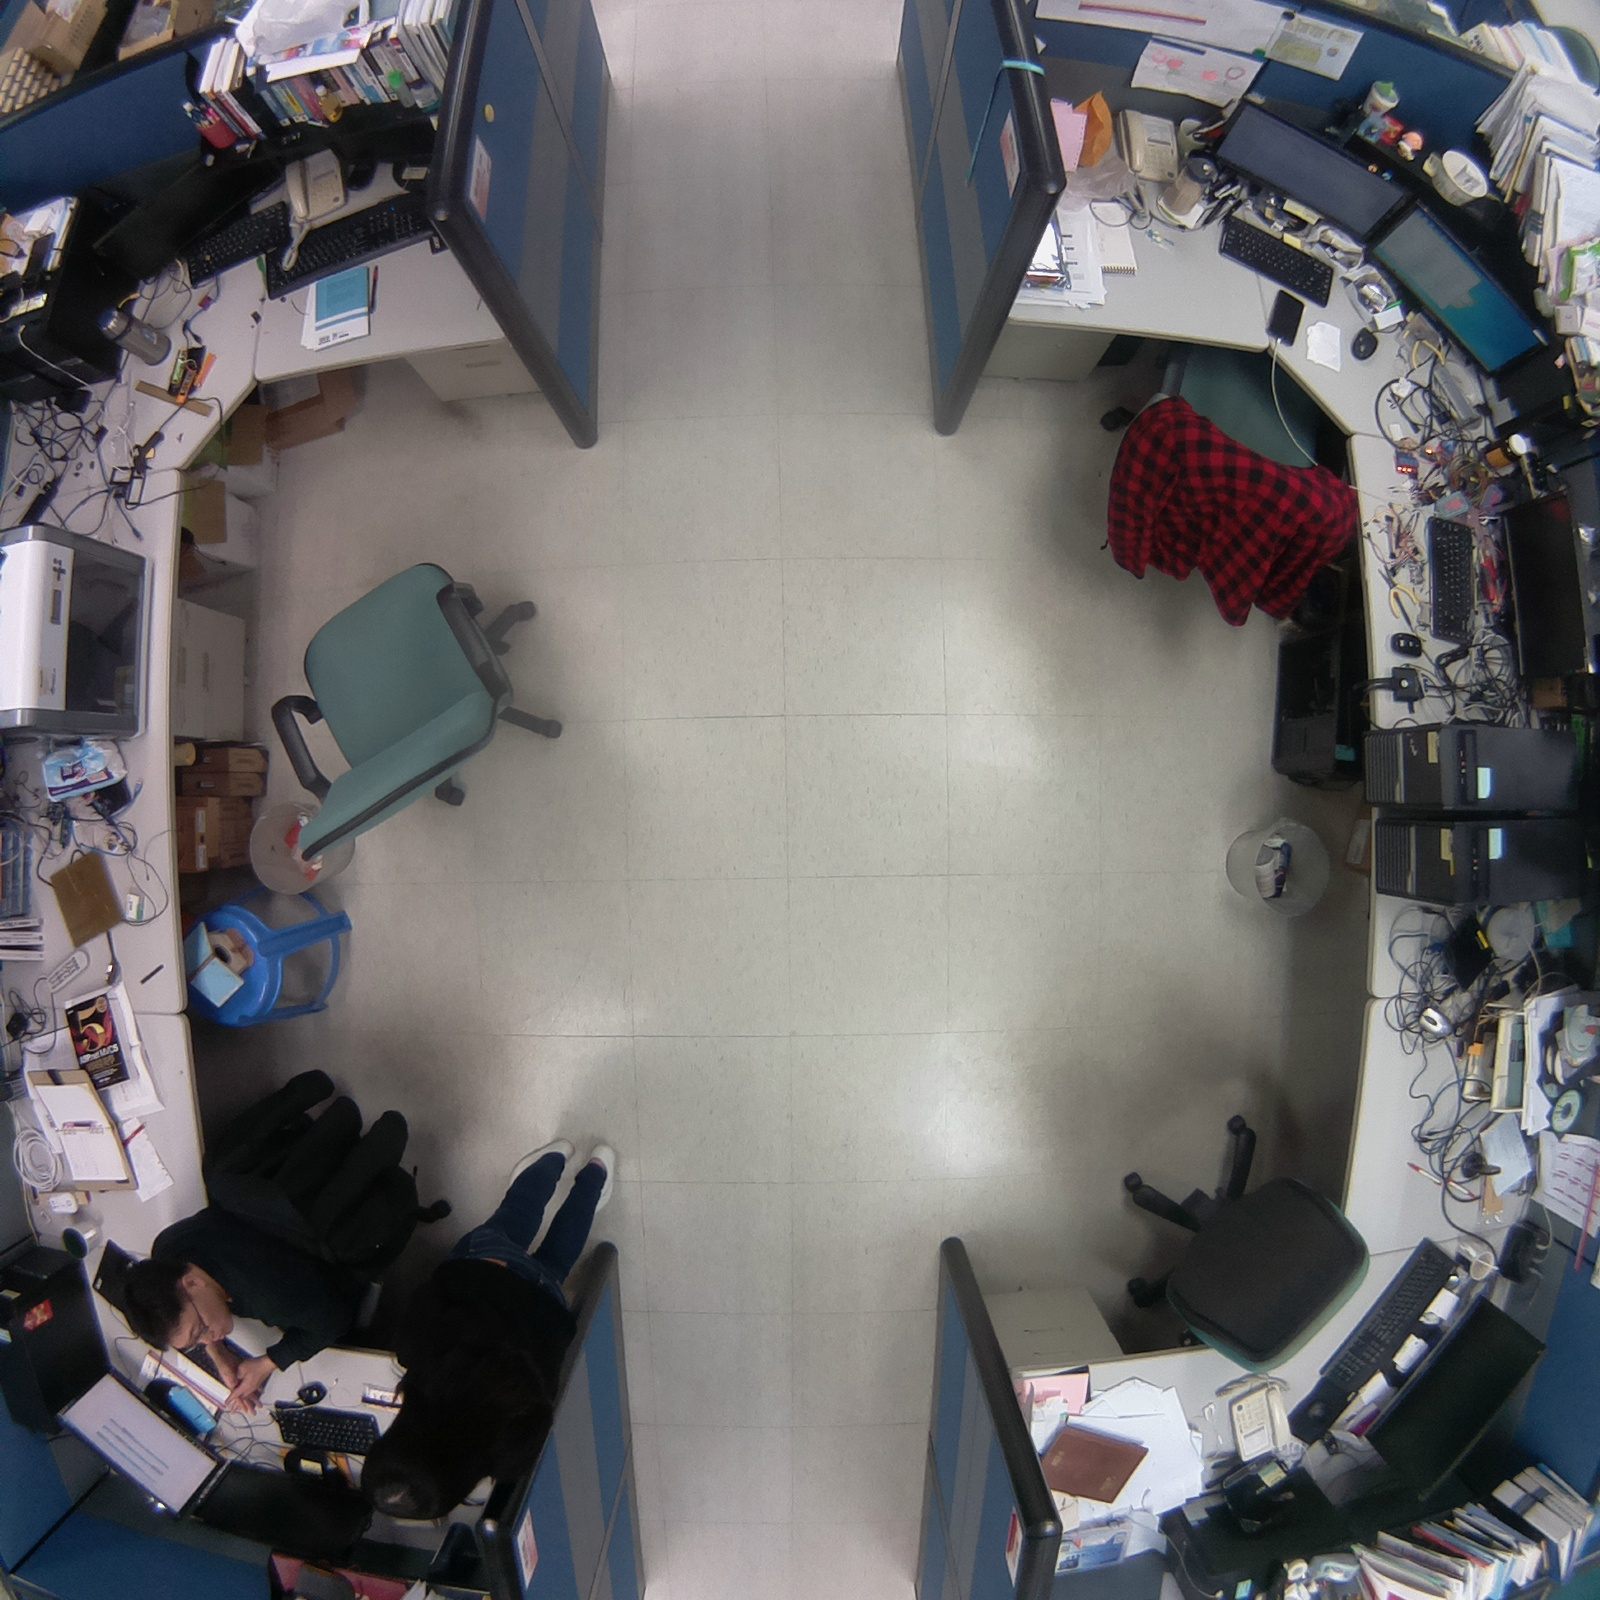chair: (260, 532, 573, 875), (1083, 299, 1378, 642), (1076, 1088, 1386, 1386)
head: (349, 1382, 493, 1527), (123, 1248, 236, 1363)
sitting: (342, 1122, 642, 1532), (114, 1063, 455, 1388)
